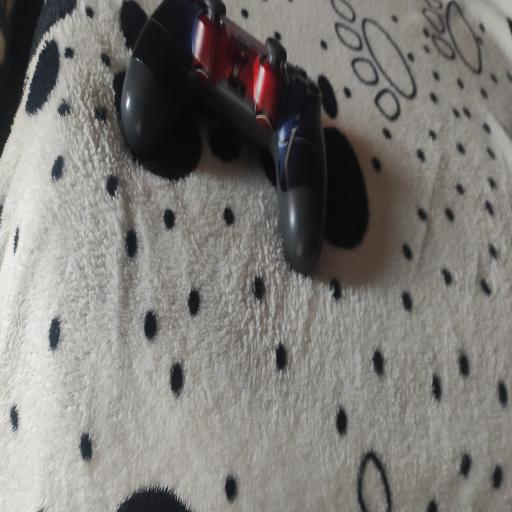ControlPlay4: (121, 0, 327, 273)
